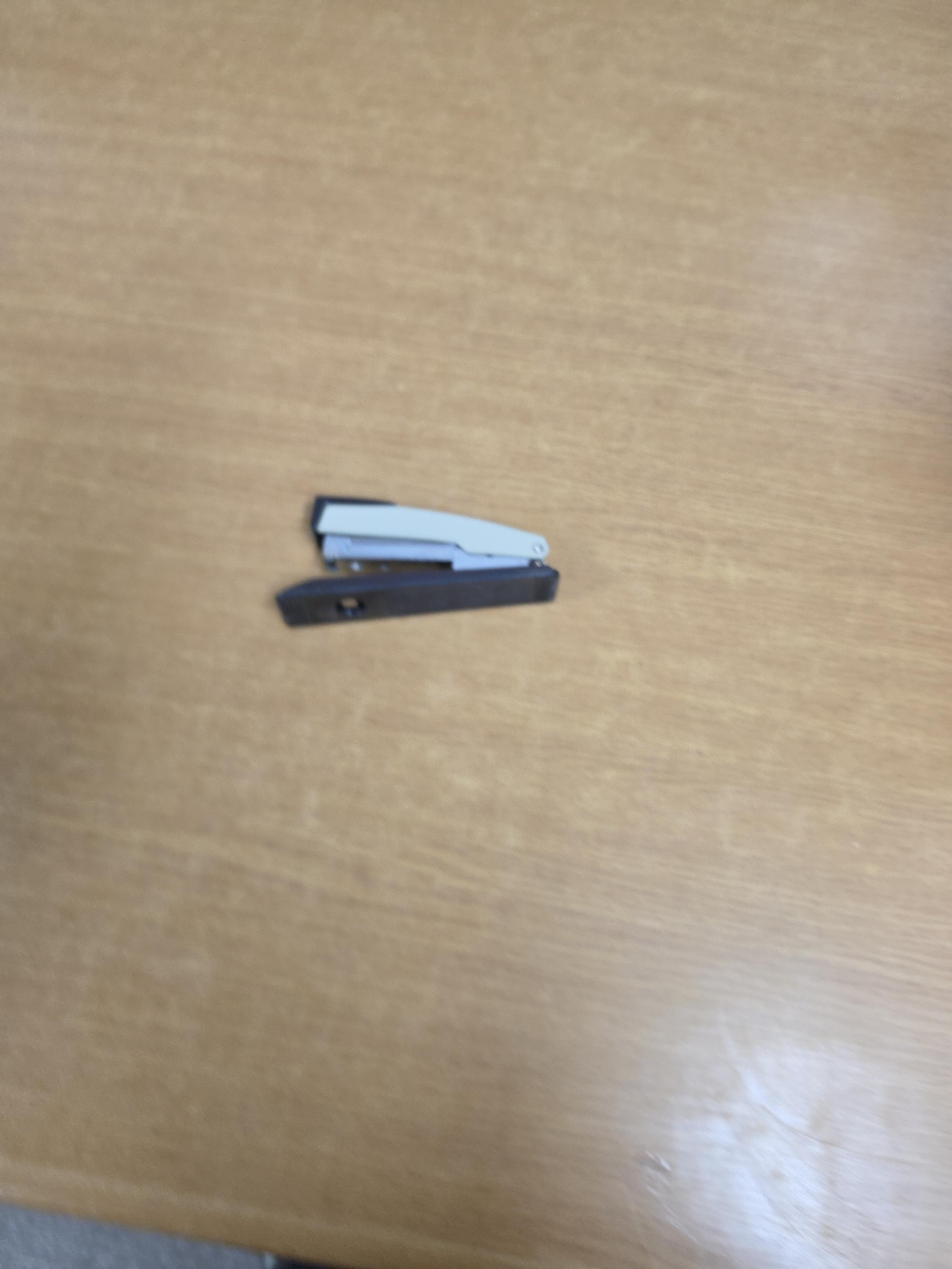stapler: (274, 494, 561, 629)
